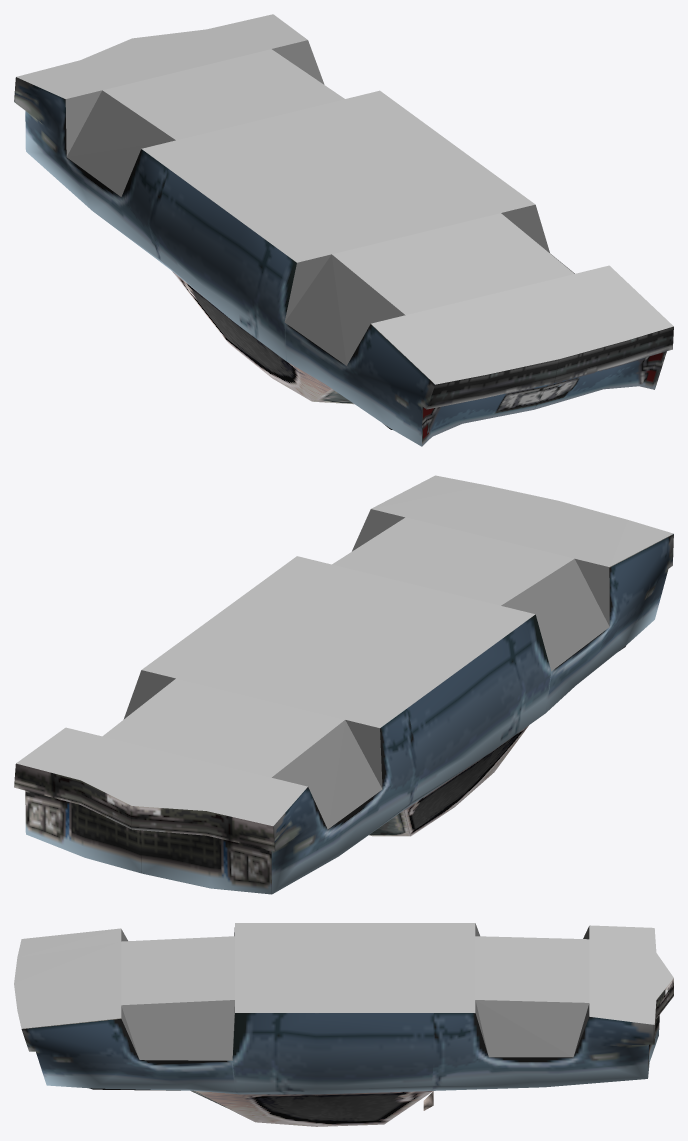
Rendered from CHICAGO_model3_clean.obj.
The picture shows the model from 3 angles, top to bottom: view 1: azimuth 30°, elevation 25°; view 2: azimuth 150°, elevation 25°; view 3: azimuth 270°, elevation 25°; orthographic projection. The views are drawn at different scales.
Parts seen in each view (by area): view 1: CHICAGO_model3_clean; view 2: CHICAGO_model3_clean; view 3: CHICAGO_model3_clean.
Part boxes in pixels (bbox=[...]): CHICAGO_model3_clean: bbox=[14, 14, 673, 446]; CHICAGO_model3_clean: bbox=[14, 475, 673, 894]; CHICAGO_model3_clean: bbox=[14, 923, 673, 1126].
Size of the model in its own units: 291 by 168 by 788.
